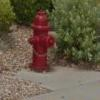Hydrant: (23, 4, 65, 74)
